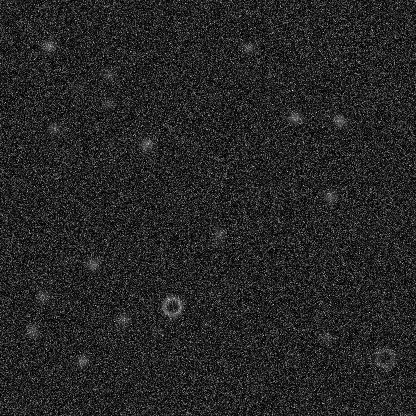Ring: (159, 294, 183, 318), (373, 346, 397, 370)
Spot: (211, 225, 227, 241), (24, 323, 40, 339), (318, 329, 334, 345), (100, 66, 116, 82), (85, 256, 101, 272), (57, 251, 73, 267), (69, 77, 85, 93), (74, 352, 90, 368), (99, 94, 115, 110), (114, 311, 130, 327), (331, 112, 347, 128), (34, 287, 50, 303), (322, 188, 338, 204), (152, 323, 168, 339), (286, 109, 302, 125), (240, 39, 256, 55), (45, 120, 61, 136), (138, 135, 154, 151), (40, 37, 56, 53)
